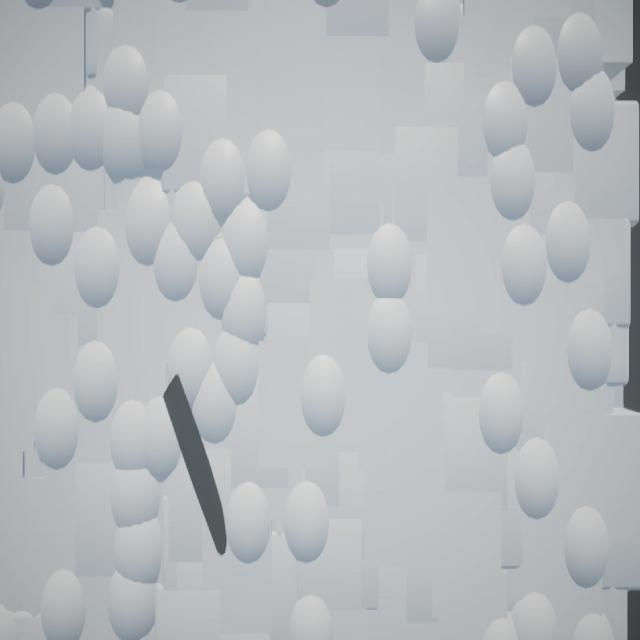top_knife: (164, 375, 228, 558)
